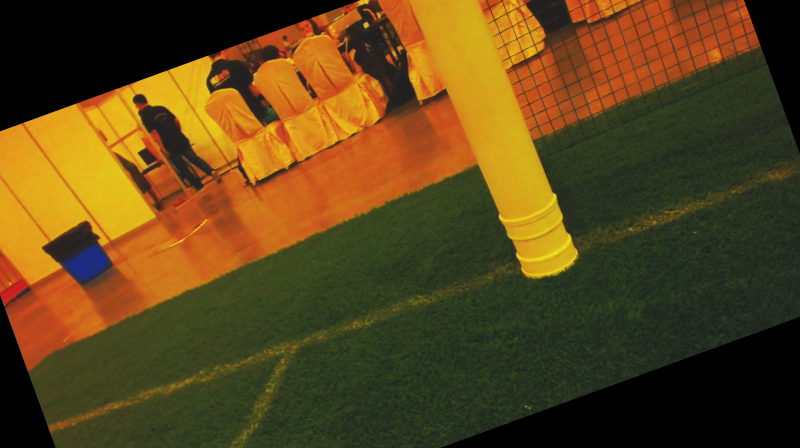post: (479, 183, 598, 294)
